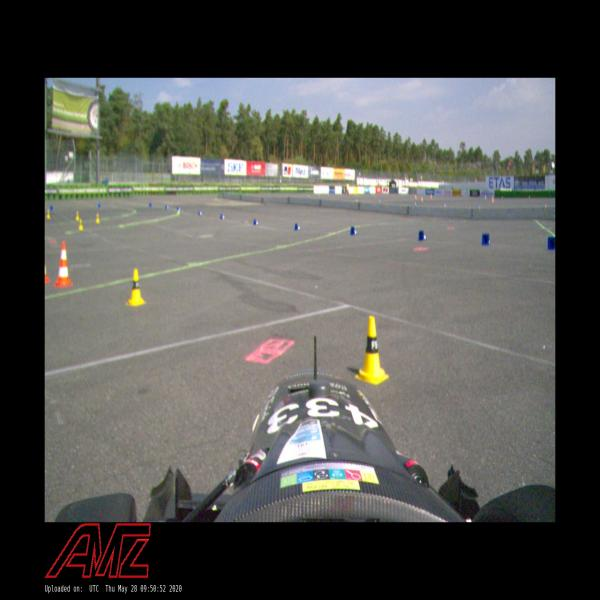blue_cone: (482, 232, 490, 246), (418, 230, 427, 241), (350, 226, 358, 236), (294, 222, 301, 230), (253, 219, 259, 225), (220, 213, 225, 220)
large_orange_cone: (53, 240, 73, 288)
yellow_cone: (354, 316, 389, 385), (125, 268, 145, 308)
